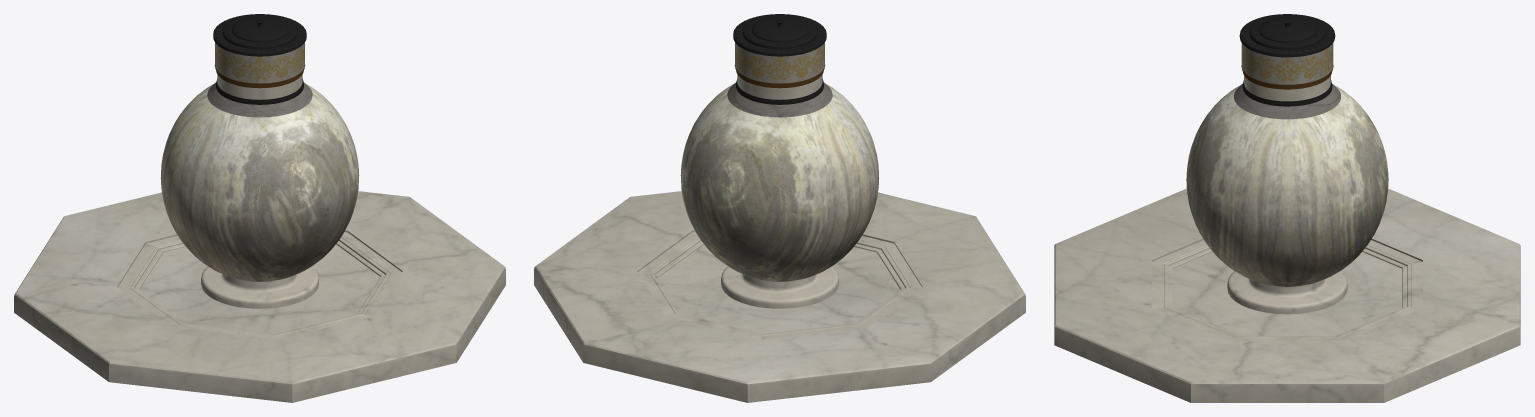
Rendered from Kart06_Kup.FBX.
3 renders of one model, left to right at view 1: azimuth 30°, elevation 25°; view 2: azimuth 150°, elevation 25°; view 3: azimuth 270°, elevation 25°, orthographic.
Visible parts, largest first — view 1: Mermer, GovdeMermer, SiyahMetal, Isleme, BaglantiMarbleDark, SariMetal; view 2: Mermer, GovdeMermer, SiyahMetal, Isleme, BaglantiMarbleDark, SariMetal; view 3: Mermer, GovdeMermer, SiyahMetal, Isleme, BaglantiMarbleDark, SariMetal.
Part boxes in pixels (x1,y1,x2,y2): Mermer: [14, 74, 505, 402]; GovdeMermer: [160, 83, 359, 281]; SiyahMetal: [213, 14, 306, 104]; Isleme: [215, 42, 304, 83]; BaglantiMarbleDark: [207, 82, 312, 117]; SariMetal: [214, 65, 305, 88]; Mermer: [534, 74, 1025, 402]; GovdeMermer: [680, 83, 879, 281]; SiyahMetal: [733, 14, 826, 104]; Isleme: [735, 42, 824, 83]; BaglantiMarbleDark: [727, 82, 832, 117]; SariMetal: [734, 65, 825, 88]; Mermer: [1054, 75, 1520, 402]; GovdeMermer: [1186, 85, 1388, 286]; SiyahMetal: [1239, 14, 1335, 106]; Isleme: [1241, 43, 1333, 84]; BaglantiMarbleDark: [1234, 83, 1340, 119]; SariMetal: [1241, 65, 1333, 89].
Size of the model in its own units: 319 by 214 by 319.
6 materials, 4 textured.
